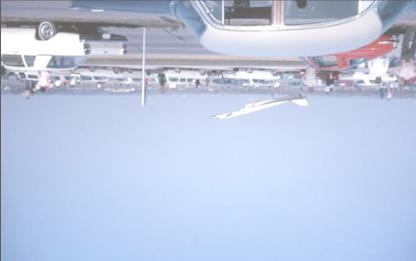U2: (206, 91, 309, 119)
